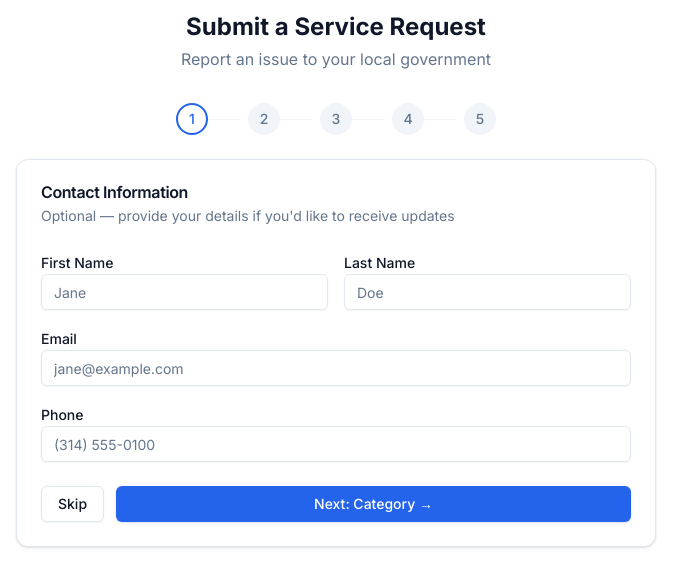
Test case: Step 1: invalid email shows Zod error
Type "not-an-email" into the field labelled "Email" at [336, 368], box [41,350,631,386]
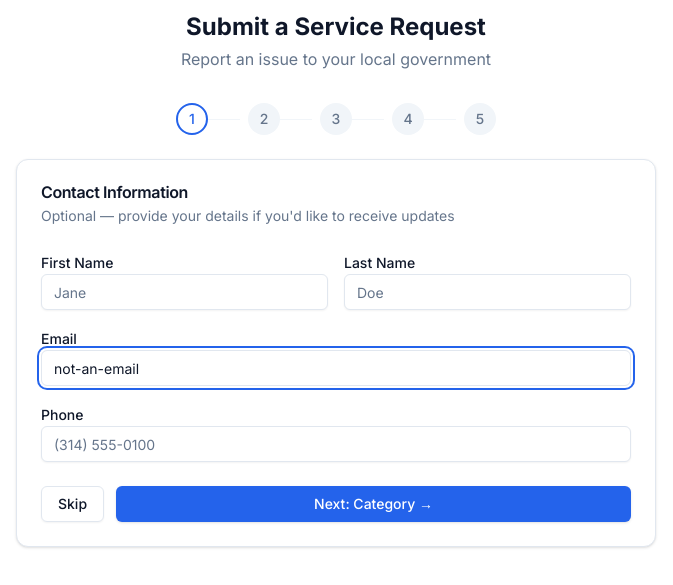
Click the button "Next: Category →" at [374, 504], box [116,486,631,522]
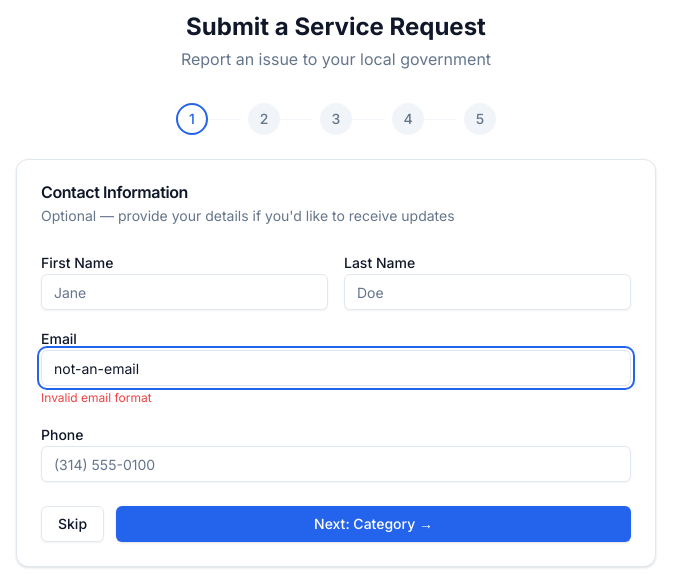
Check: the text "Invalid email format" is shown, box [41,390,152,405]
